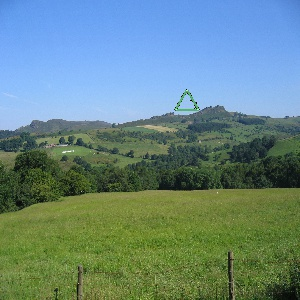triangle: (172, 87, 201, 114)
